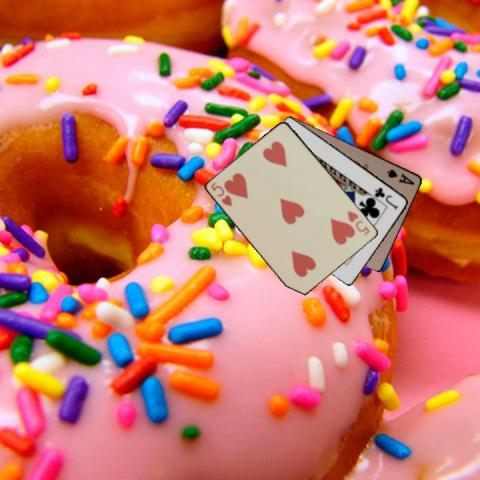5h: (344, 207, 371, 237), (208, 179, 234, 208)
As: (384, 166, 417, 187)
Jc: (372, 184, 399, 210)
